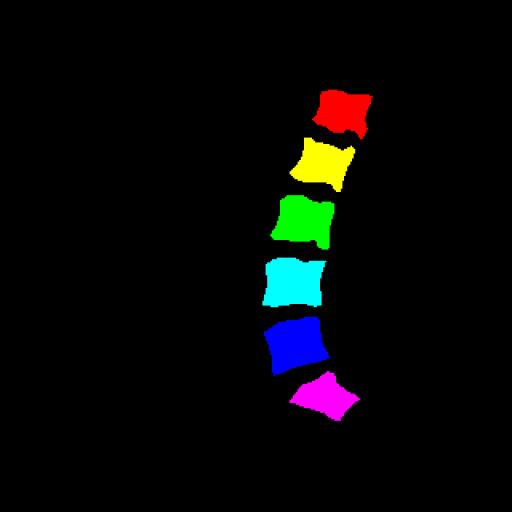L1: (313, 91, 372, 138)
L2: (288, 138, 355, 193)
L3: (271, 195, 334, 250)
L4: (262, 258, 326, 307)
L5: (264, 317, 329, 375)
S1: (290, 371, 359, 421)
